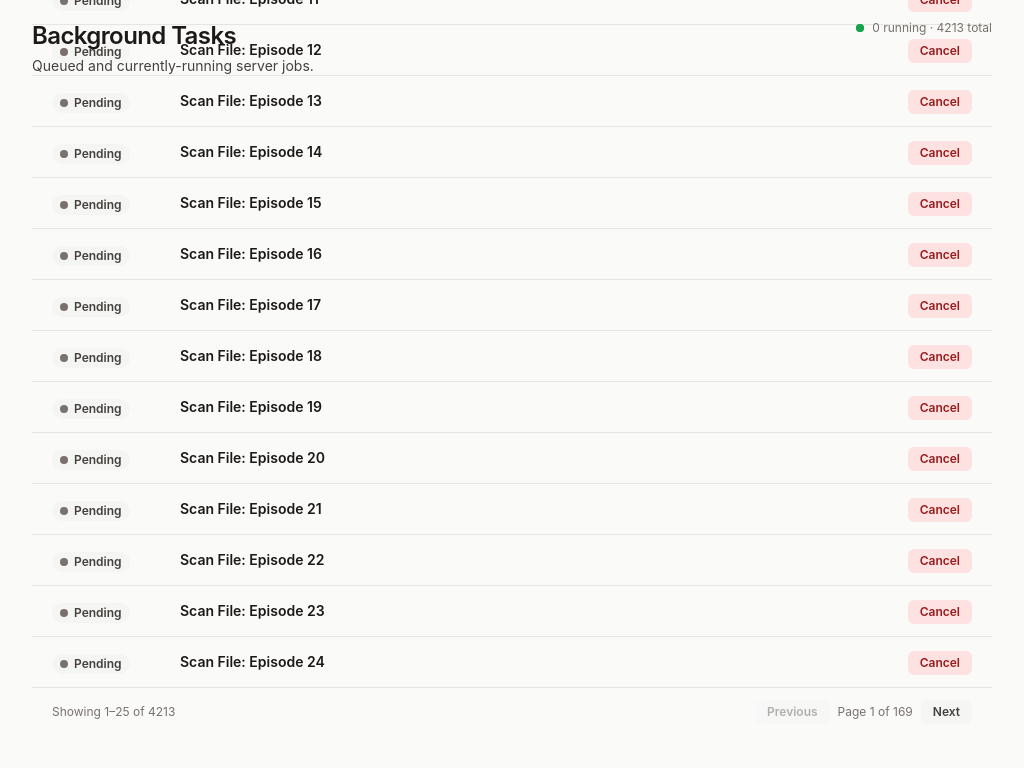
TaskDashboard › walks to the next page from where the last one ended
The width and height of the screenshot is (1024, 768).
(page scrolled)
Expected: the text "Showing 1–25 of 4213" is shown, [52,704,175,720]
Click the button "Next".
click(946, 712)  # box [921,700,972,724]
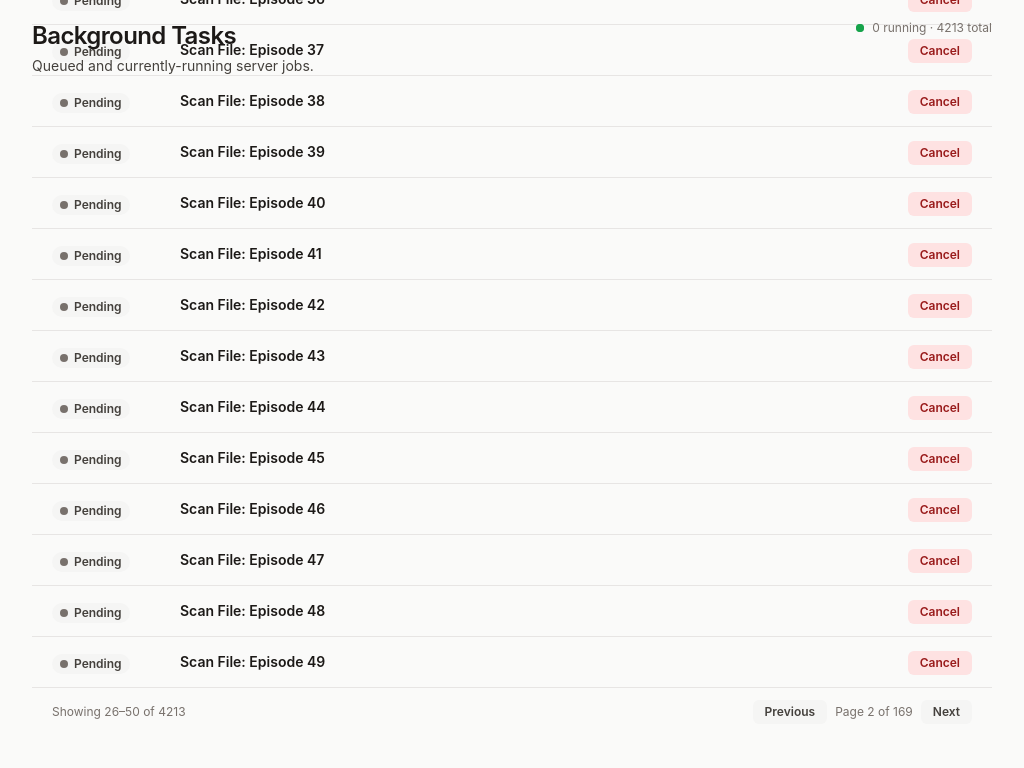
Expected: the text "Showing 26–50 of 4213" is shown, [52,704,186,720]
Expected: the text "Page 2 of 169" is shown, [835,704,913,720]
